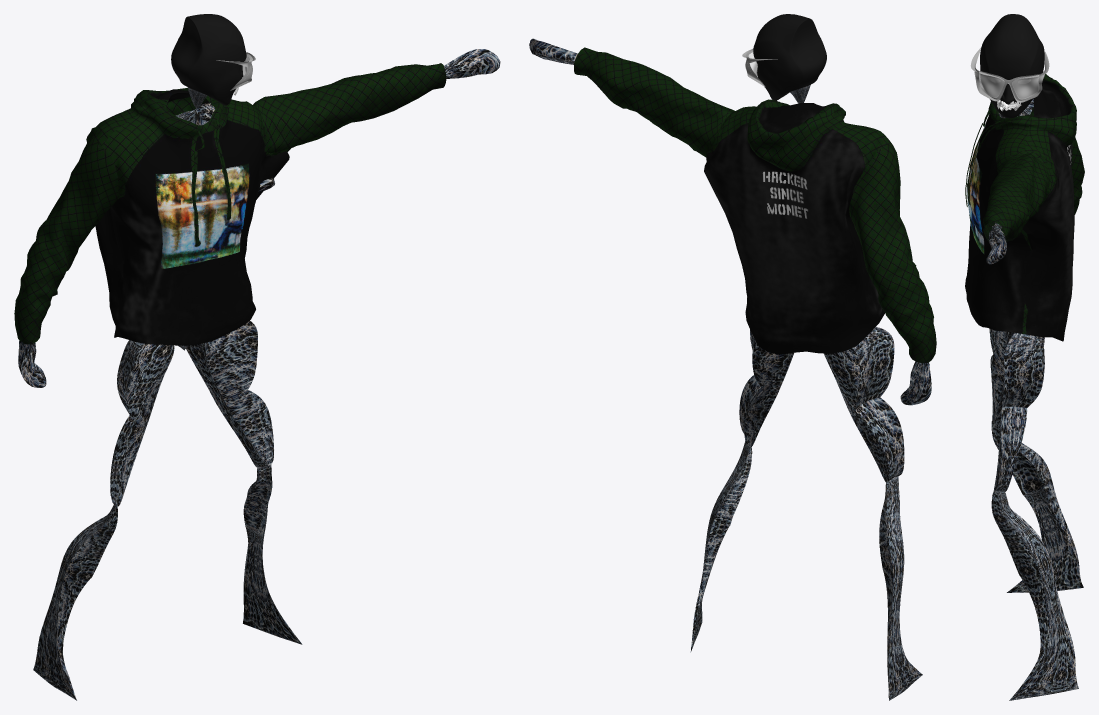
The model's file is jumo.glb.
3 views of the same model, side by side, from view 1: azimuth 30°, elevation 25°; view 2: azimuth 150°, elevation 25°; view 3: azimuth 270°, elevation 25° (orthographic). The views are drawn at different scales.
Visible parts, largest first — view 1: hoodie, body, KAFA1 ROBCP; view 2: hoodie, body, KAFA1 ROBCP; view 3: hoodie, body, KAFA1 ROBCP, CAM, FRAME.
Boxes of the visible parts, x1,y1,x2,y2 form: hoodie: (14,63,446,345); body: (18,49,500,700); KAFA1 ROBCP: (171,14,246,105); hoodie: (574,47,936,363); body: (529,38,931,700); KAFA1 ROBCP: (753,14,826,100); hoodie: (965,74,1084,341); body: (986,99,1083,700); KAFA1 ROBCP: (980,14,1044,118); CAM: (978,73,1039,99); FRAME: (970,47,1049,102).
Bounding box in the file's own units: 1.3 × 1.8 × 0.3081.
Materials: 8 (3 with a texture image).
